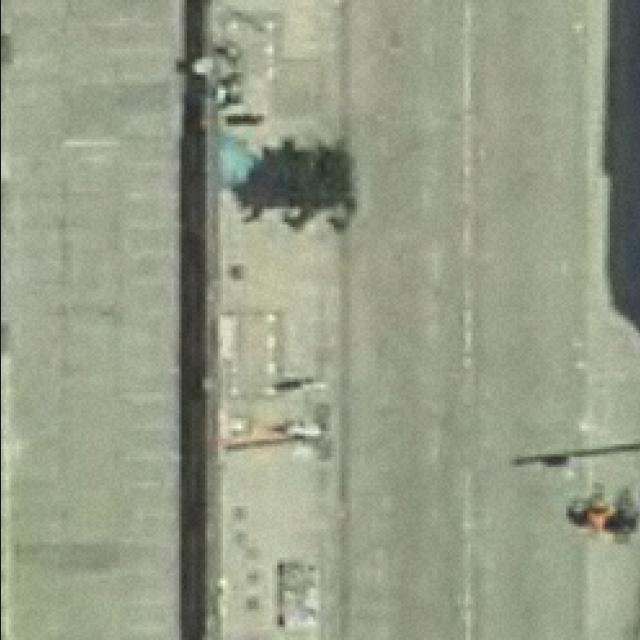vendedor_ambulante: (210, 130, 254, 192)
